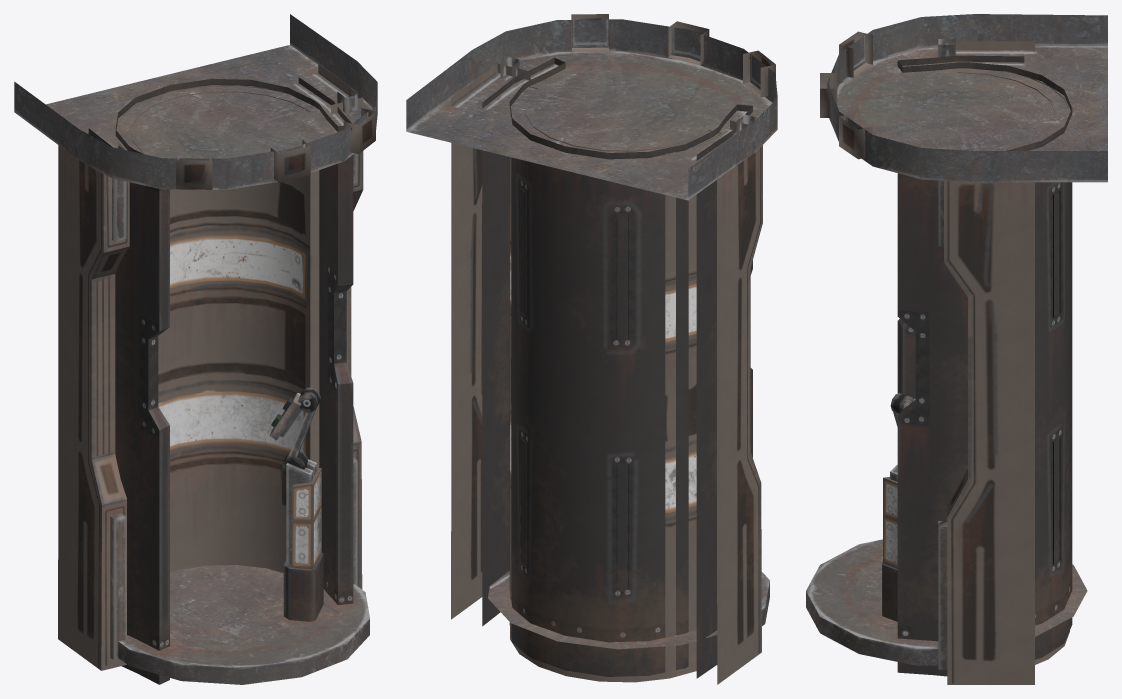
Rendered from ElevatorMesh.fbx.
3 renders of one model, left to right at view 1: azimuth 30°, elevation 25°; view 2: azimuth 150°, elevation 25°; view 3: azimuth 270°, elevation 25°, orthographic. The views are drawn at different scales.
Visible parts, largest first — view 1: ElevatorBody, ElevatorDoor, ElevatorPartBase, ElevatorPartBottom; view 2: ElevatorBody, ElevatorDoor; view 3: ElevatorBody, ElevatorPartBase, ElevatorPartBottom, ElevatorDoor.
Part boxes in pixels (x1=…): ElevatorBody: x1=14, y1=14, x2=377, y2=684; ElevatorDoor: x1=117, y1=85, x2=322, y2=572; ElevatorPartBase: x1=270, y1=387, x2=321, y2=569; ElevatorPartBottom: x1=283, y1=552, x2=323, y2=621; ElevatorBody: x1=406, y1=14, x2=777, y2=684; ElevatorDoor: x1=510, y1=86, x2=721, y2=682; ElevatorBody: x1=806, y1=14, x2=1107, y2=684; ElevatorPartBase: x1=883, y1=392, x2=915, y2=568; ElevatorPartBottom: x1=882, y1=561, x2=897, y2=621; ElevatorDoor: x1=957, y1=70, x2=1069, y2=664.
Bounding box in the file's own units: 1.58 × 2.96 × 1.47.
1 material, 1 textured.
